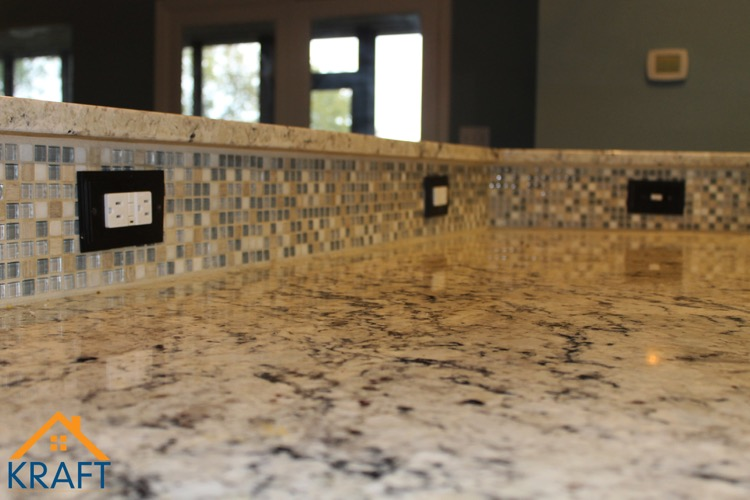outlet: (106, 197, 126, 223), (135, 195, 153, 222)
